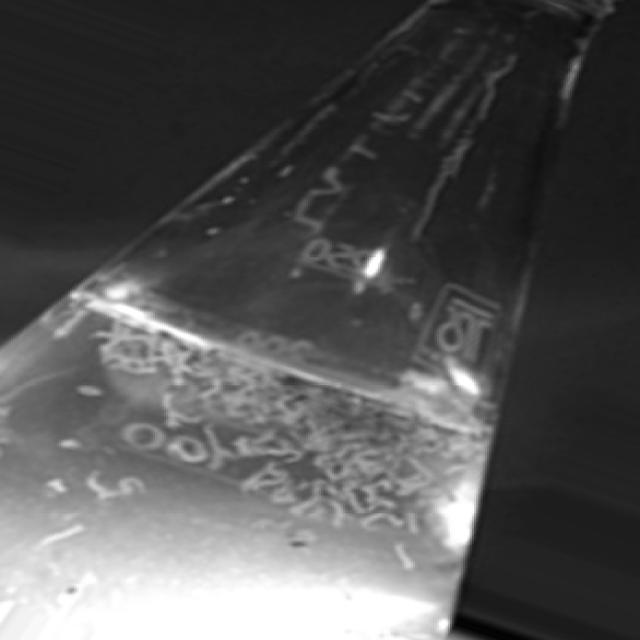larvas: (217, 456, 282, 501), (113, 467, 171, 517), (147, 392, 218, 428), (30, 521, 94, 555), (205, 424, 248, 472), (115, 417, 165, 458), (75, 461, 117, 506), (40, 306, 90, 343), (167, 431, 211, 470), (386, 540, 430, 577), (236, 512, 302, 534), (347, 509, 404, 534), (272, 527, 330, 551)
